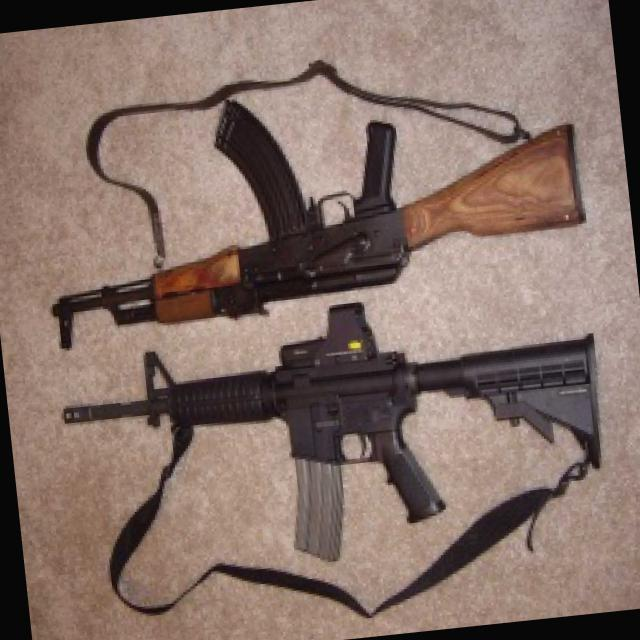long weapon: (0, 70, 612, 351), (23, 294, 630, 556)
